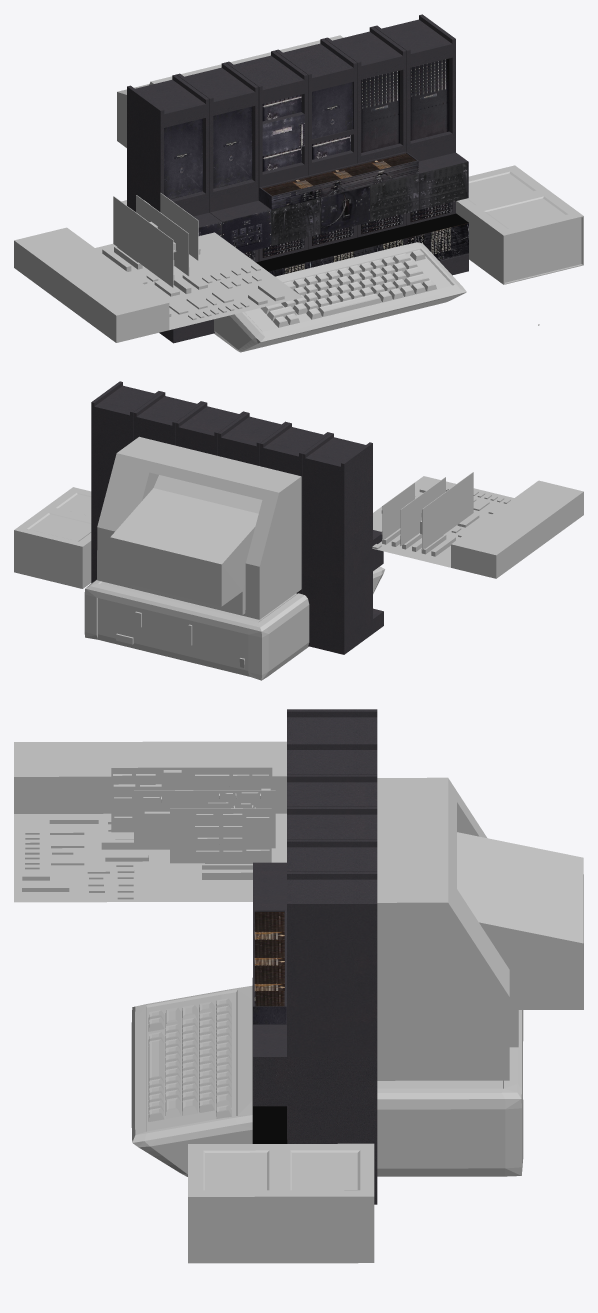
The model's file is ENIAC.fbx.
3 views of the same model, one above another, from view 1: azimuth 30°, elevation 25°; view 2: azimuth 150°, elevation 25°; view 3: azimuth 270°, elevation 25° (orthographic). The views are drawn at different scales.
Parts seen in each view (by area): view 1: ENIAC, lector; view 2: lector, ENIAC; view 3: lector, ENIAC.
Boxes of the visible parts, box(x1,y1,x2,y2) form: ENIAC: box(127, 14, 468, 343); lector: box(14, 35, 583, 352); lector: box(14, 436, 583, 680); ENIAC: box(91, 381, 383, 654); lector: box(14, 741, 583, 1263); ENIAC: box(252, 709, 377, 1204).
Size of the model in its own units: 1326 by 644 by 912.
